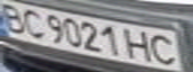0: (60, 16, 81, 48)
1: (96, 23, 124, 57)
2: (78, 19, 103, 54)
9: (39, 11, 66, 44)
B: (0, 1, 30, 34)
C: (145, 32, 184, 66), (15, 7, 48, 39)
H: (124, 27, 157, 63)
